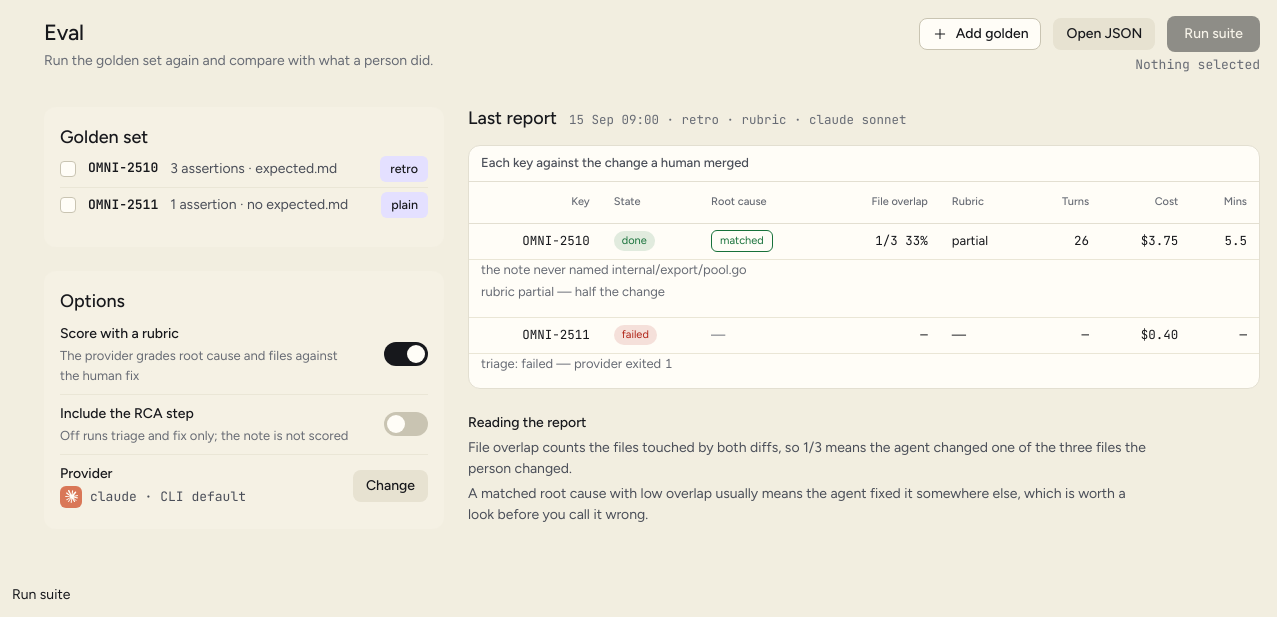
Test: Eval run suite › is disabled with a reason until a key is picked, then counts the estimate
expect the button "Run suite" is disabled: met, box [1167, 16, 1260, 52]
expect the text "Nothing selected" is shown: met, box [1135, 56, 1260, 75]
Step 1. Click the checkbox labelled "OMNI-2510" → (68, 169), box [60, 161, 76, 177]
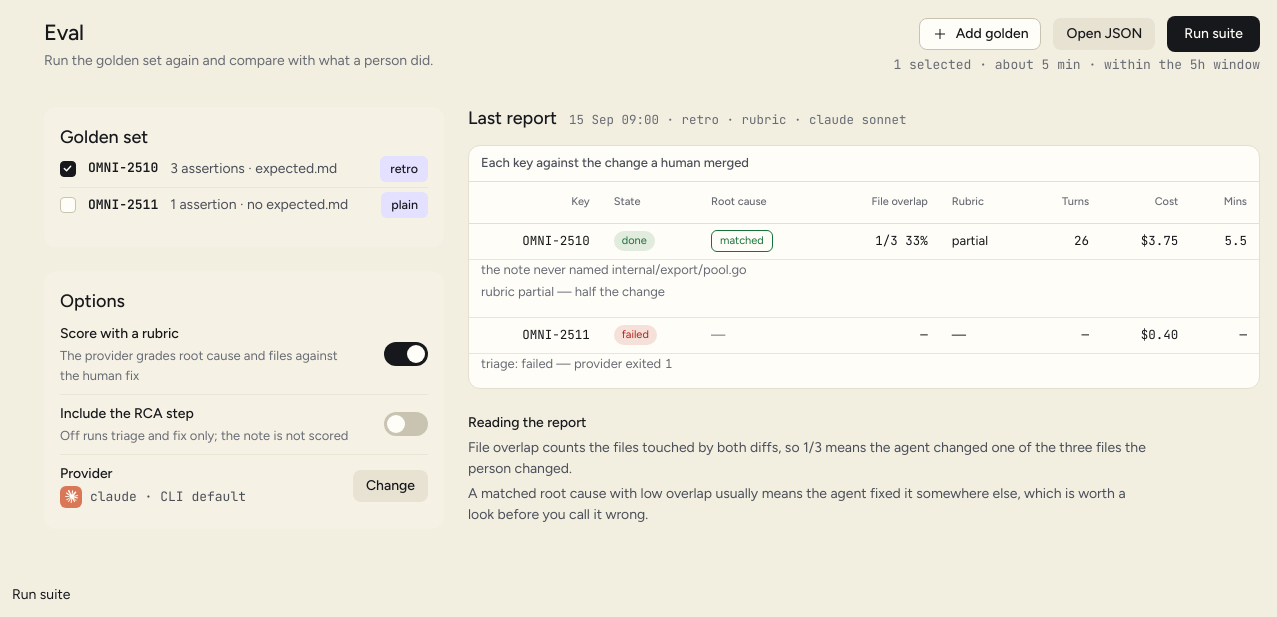
expect the button "Run suite" is enabled: met, box [1167, 16, 1260, 52]
expect the text "1 selected · about 5 min · within the 5h window" is shown: met, box [893, 56, 1260, 75]
Step 2. Click the checkbox labelled "OMNI-2511" → (68, 205), box [60, 197, 76, 213]
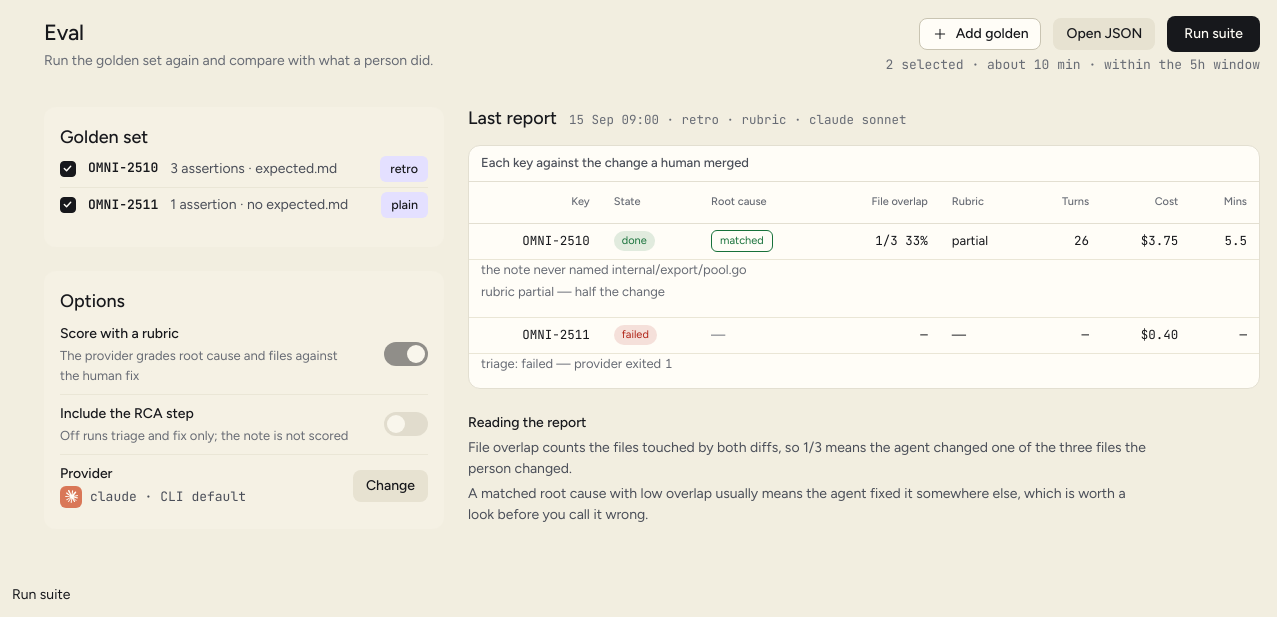
expect the text "2 selected · about 10 min · within the 5h window" is shown: met, box [886, 56, 1260, 75]
